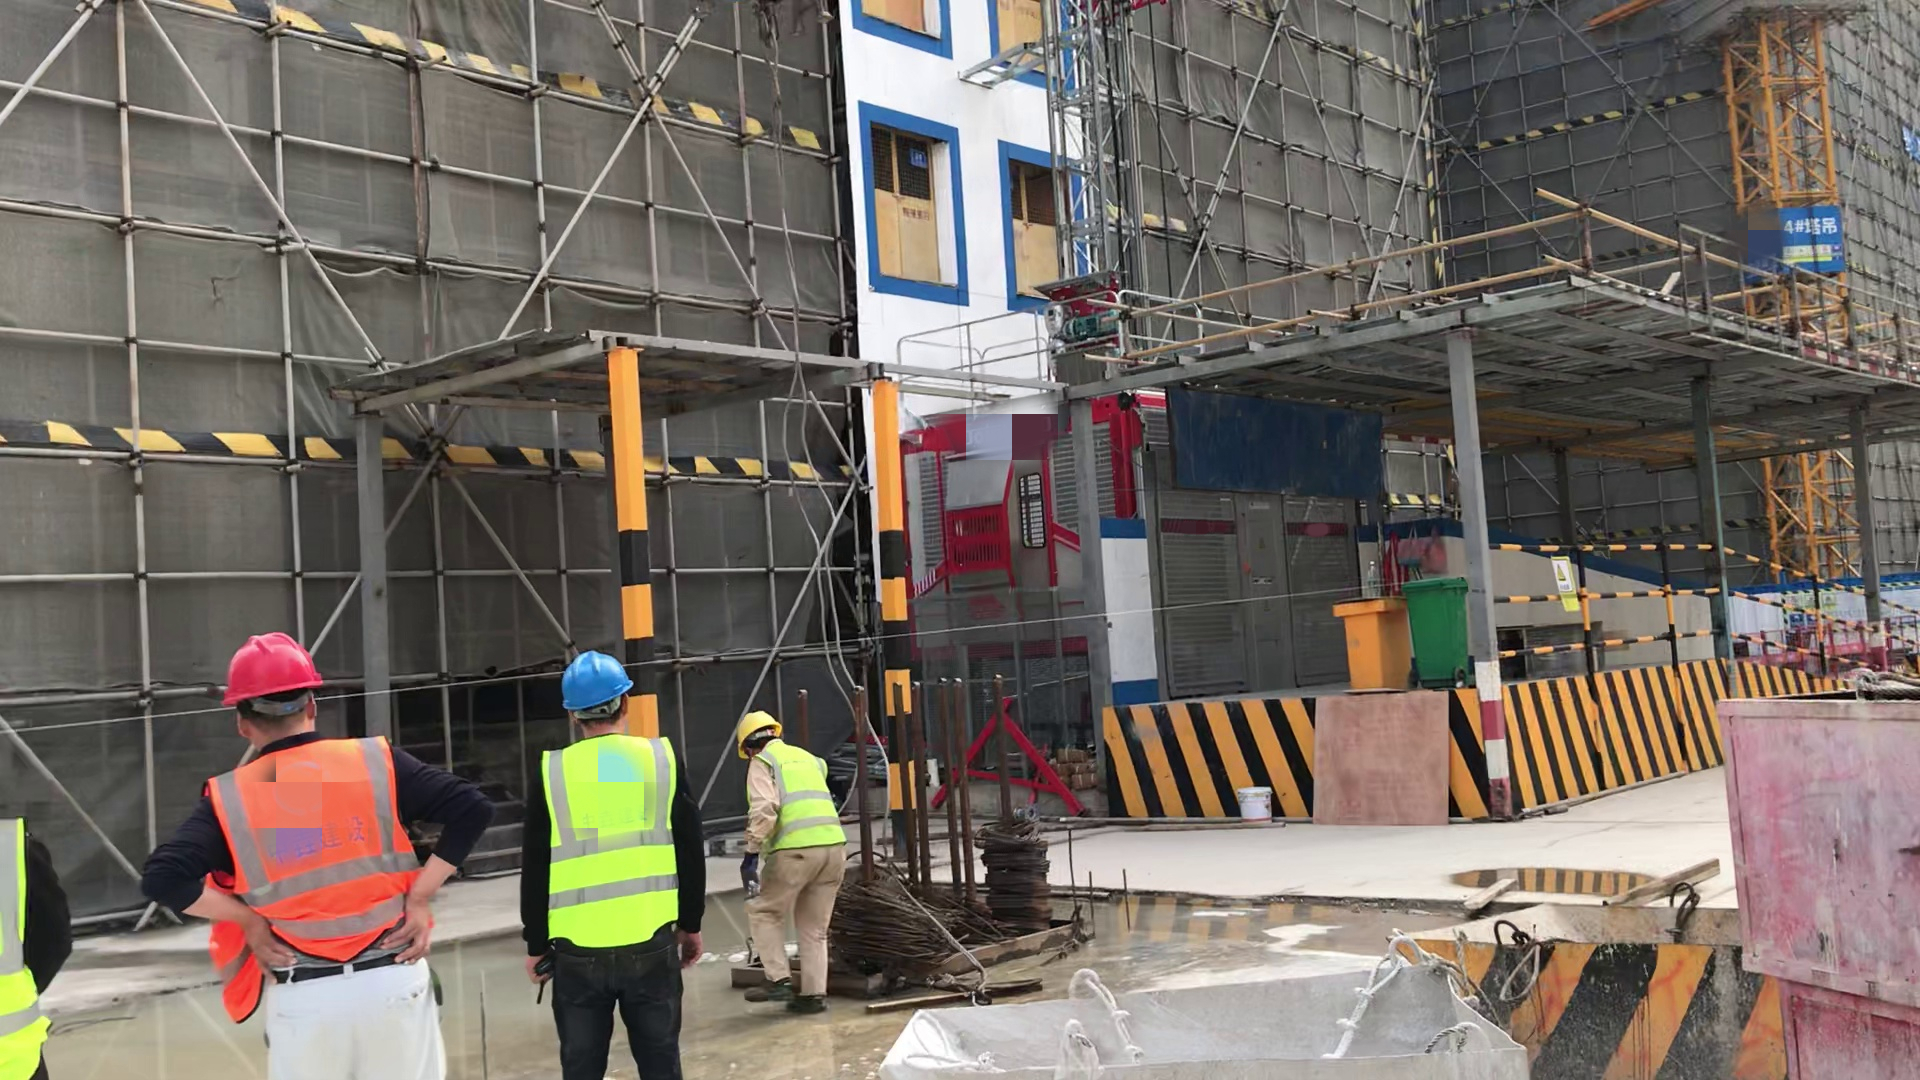fence: (1478, 513, 1878, 696)
helmet: (212, 625, 334, 711), (558, 651, 640, 711), (735, 704, 783, 752)
hopper: (1413, 885, 1798, 1080), (870, 982, 1549, 1080)
person: (140, 627, 494, 1080), (527, 644, 709, 1080), (724, 705, 853, 1036), (1, 816, 85, 1080)
vest: (203, 730, 435, 1007), (542, 730, 686, 951), (1, 823, 53, 1080), (751, 740, 848, 862)
